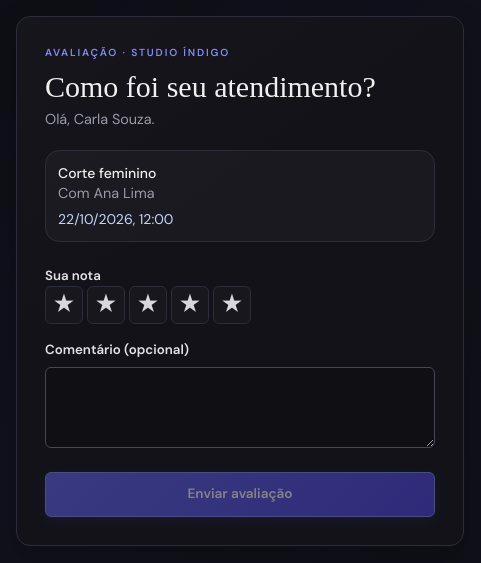
Test: RatingPage › envia a nota e mostra confirmação
This screenshot has width=481, height=563.
Click the radio button named "4 de 5". click: (190, 305)
box: [171,286,209,324]
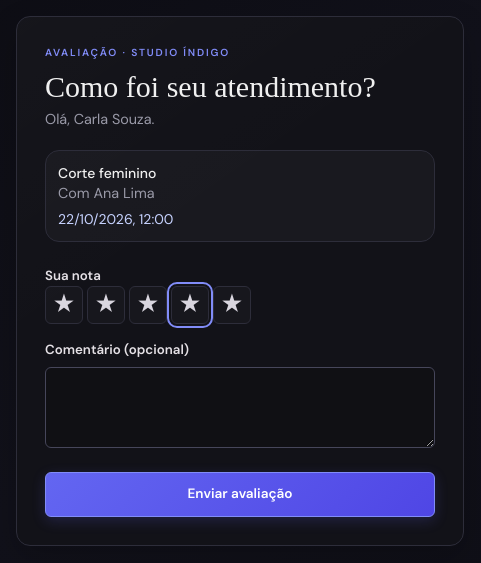
Click the button "Enviar avaliação". click: (240, 495)
box: [45,472,435,517]
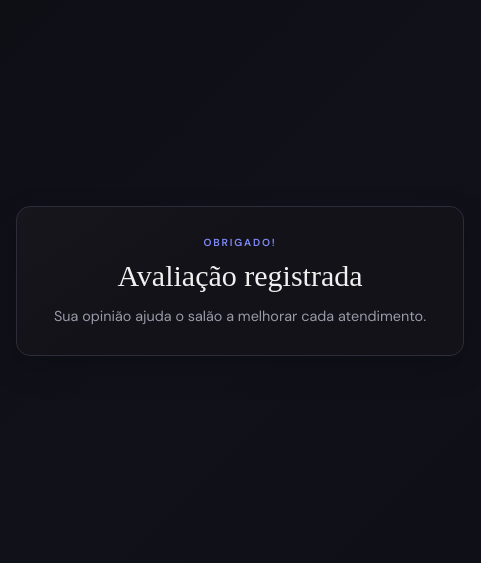
Now the heading "Avaliação registrada" is shown, box [117,259,363,292]
